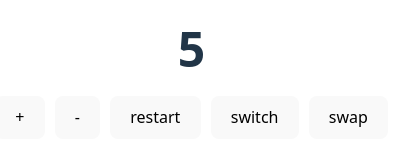
Counter Component › swap button swaps count with backup value
The image size is (405, 160).
Check: the heading with test id "count" reads "5", box [178,16,205,81]
Step 1. Click the button with test id "swap" → (348,118), box [309,96,388,139]
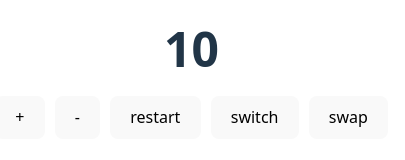
Check: the heading with test id "count" reads "10", box [164,16,219,81]
Step 2. Click the button with test id "swap" → (348,118), box [309,96,388,139]
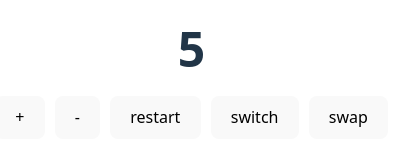
Check: the heading with test id "count" reads "5", box [178,16,205,81]
